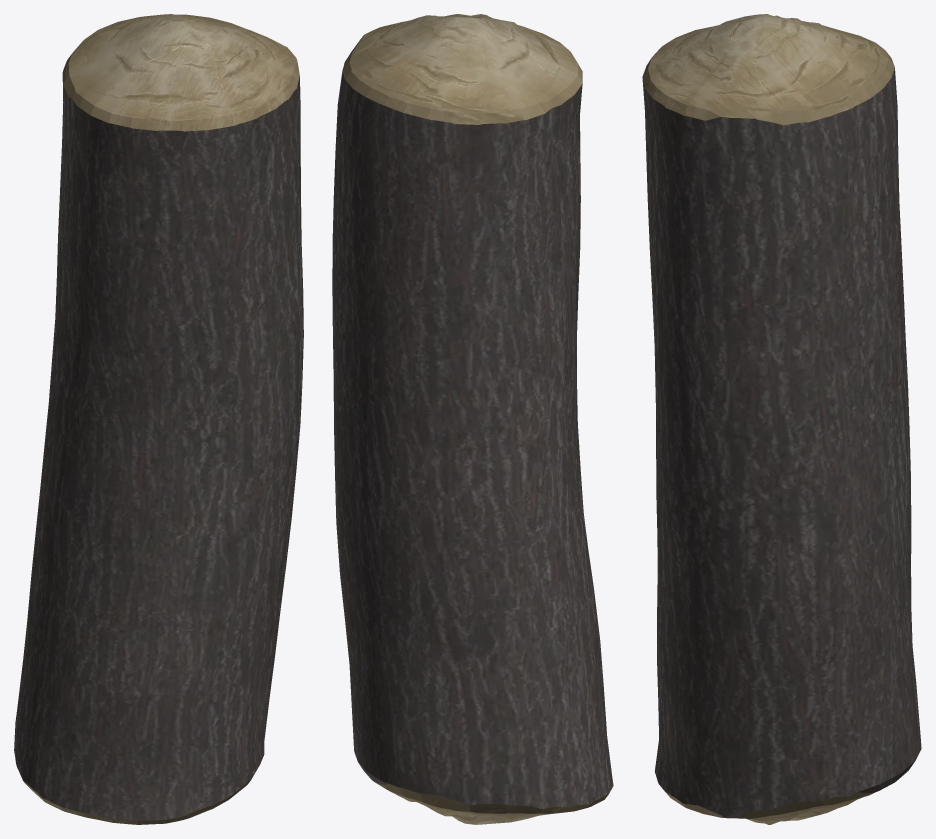
The picture shows the model from 3 angles, left to right: view 1: azimuth 30°, elevation 25°; view 2: azimuth 150°, elevation 25°; view 3: azimuth 270°, elevation 25°; orthographic projection. The views are drawn at different scales.
Visible parts, largest first — view 1: SM_BM_Oak_Tree_01_quarter_02_LOD0; view 2: SM_BM_Oak_Tree_01_quarter_02_LOD0; view 3: SM_BM_Oak_Tree_01_quarter_02_LOD0.
Part boxes in pixels (x1=…): SM_BM_Oak_Tree_01_quarter_02_LOD0: x1=14, y1=14, x2=303, y2=824; SM_BM_Oak_Tree_01_quarter_02_LOD0: x1=332, y1=14, x2=613, y2=824; SM_BM_Oak_Tree_01_quarter_02_LOD0: x1=642, y1=14, x2=921, y2=824.
Size of the model in its own units: 0.8999 by 2.66 by 0.8219.
Materials: 1 (1 with a texture image).
